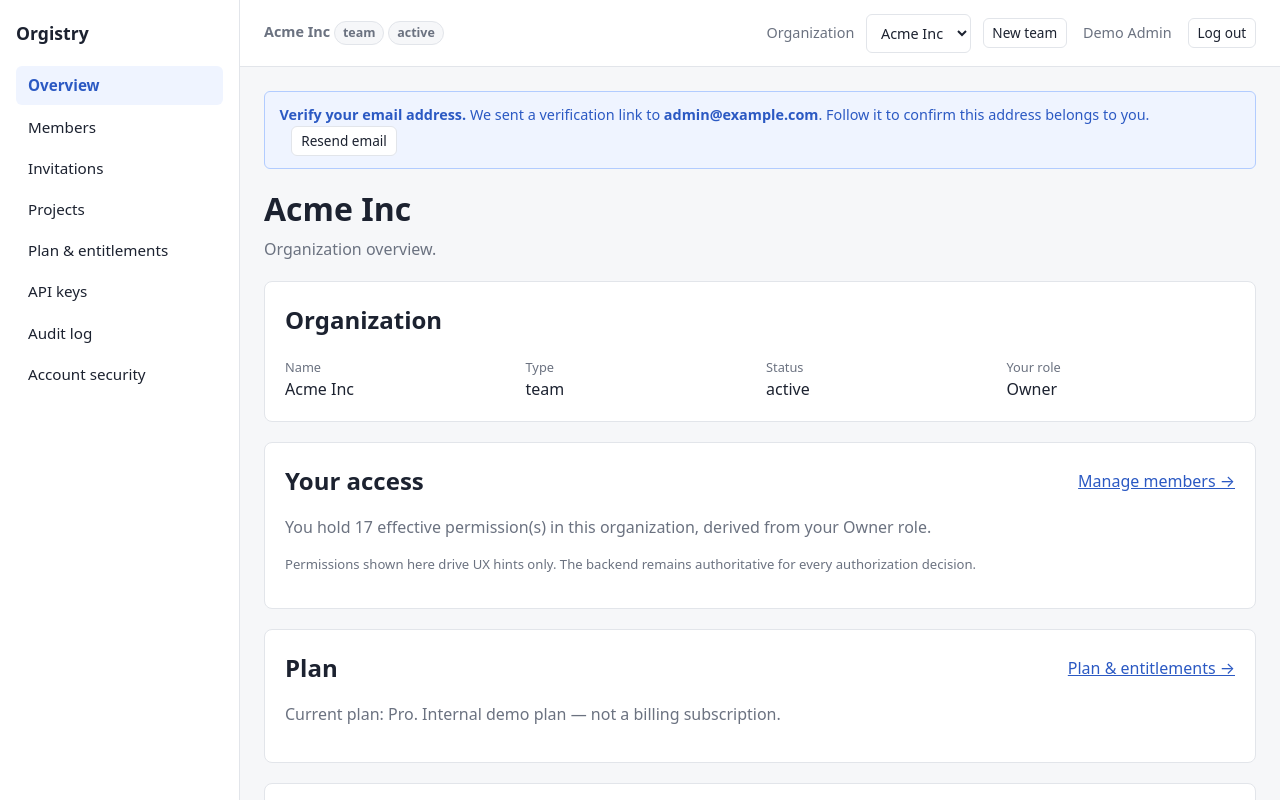
it: unverified-email banner › shows a dedicated message when resend is rate limited
What coordinates should you click on to do the following:
click the button "Resend email"
I would click on:
 (344, 141)
Its box is [291, 126, 397, 156].
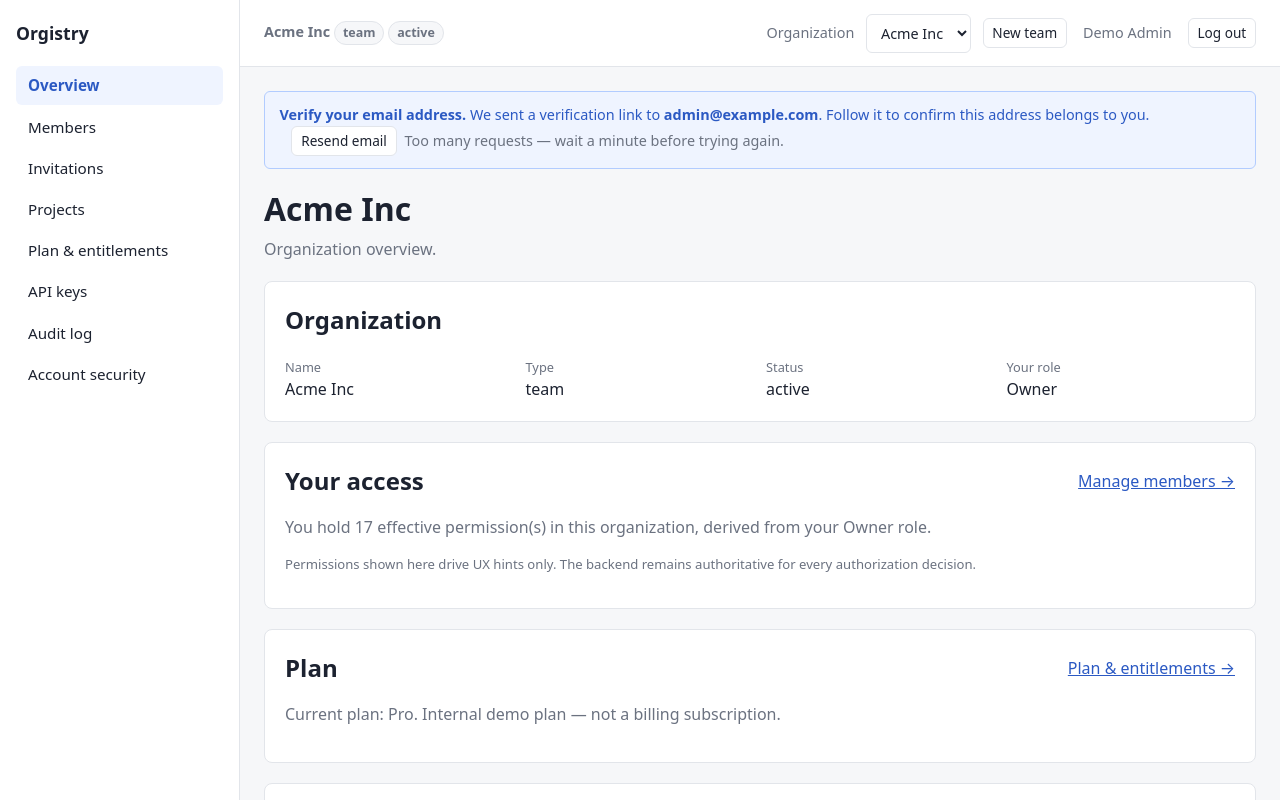
expect the text "Too many requests — wait a minute before trying again." is shown: met, box [405, 131, 784, 150]
